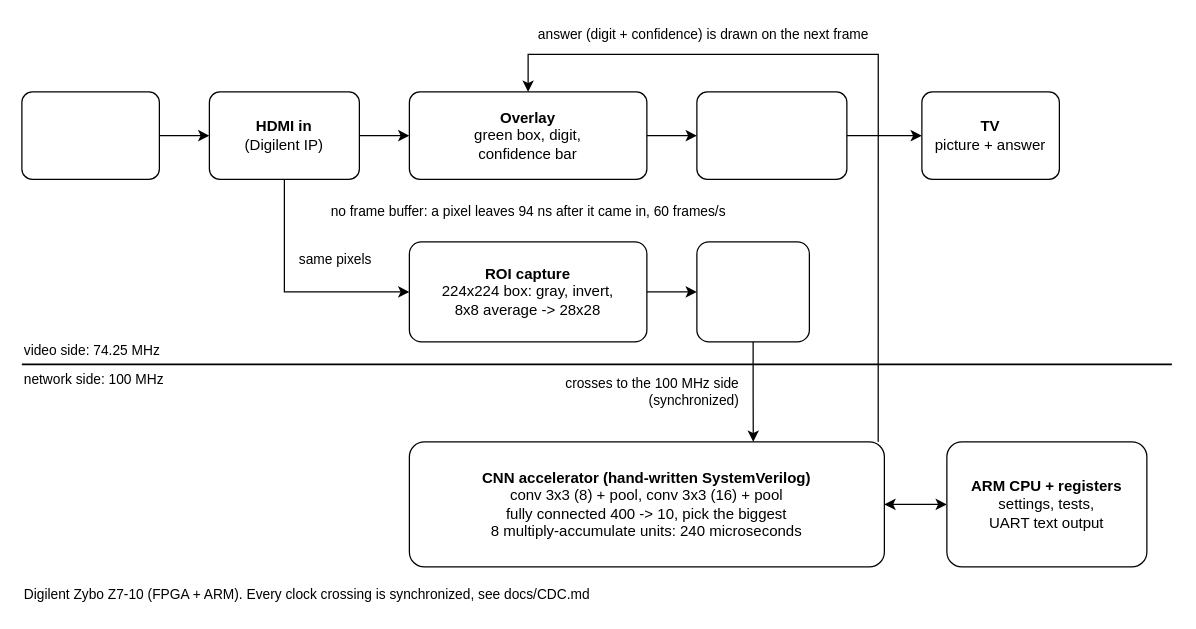
This 1196x629 diagram has some shape labels left out. Here are the shapes that lost their labels. From the top down, the centre of each, then its label:
[90,135]: Laptop HDMI 720p60
[771,135]: HDMI out (Digilent IP)
[752,291]: ROI buffer 2 banks
